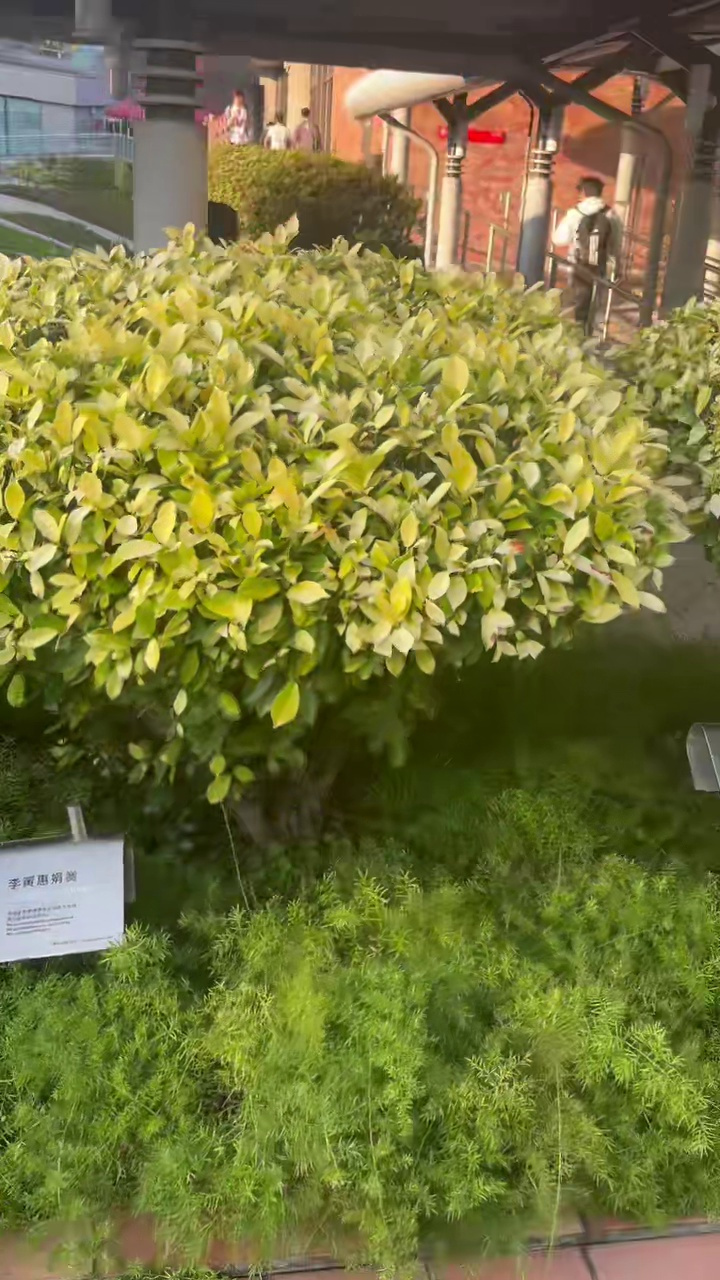Golden-leaves Fig: (0, 224, 683, 811)
